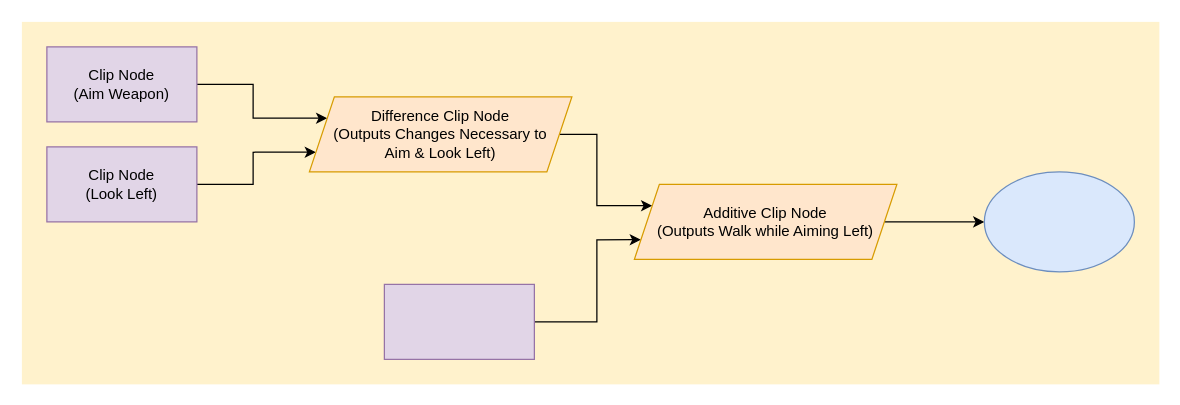
The diagram is 1180 pixels wide and 405 high, and some of its shapes have lost their labels. The shapes that lost their labels are listed below. From the top down, each one's centre as x and y in pixels, then its label:
At point 1058,221: "Output Node".
At point 458,321: "Clip Node (Walk)".
